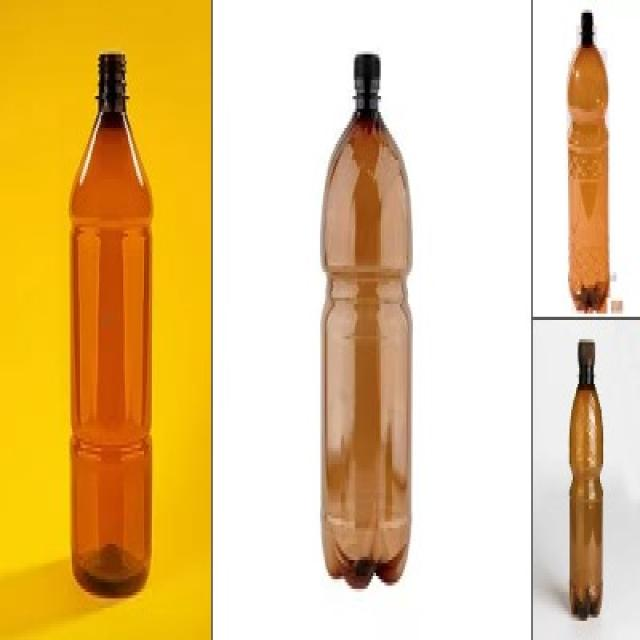brown: (319, 83, 413, 589), (68, 53, 154, 598), (567, 32, 609, 310), (569, 366, 603, 618)
